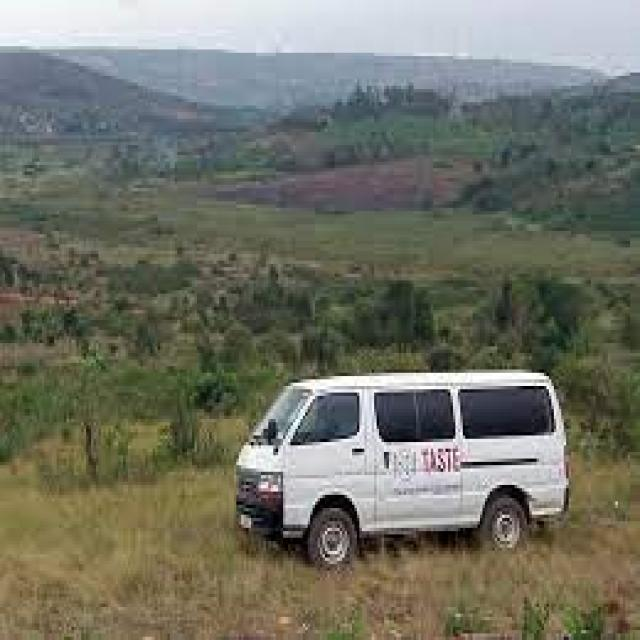van: (239, 369, 566, 564)
